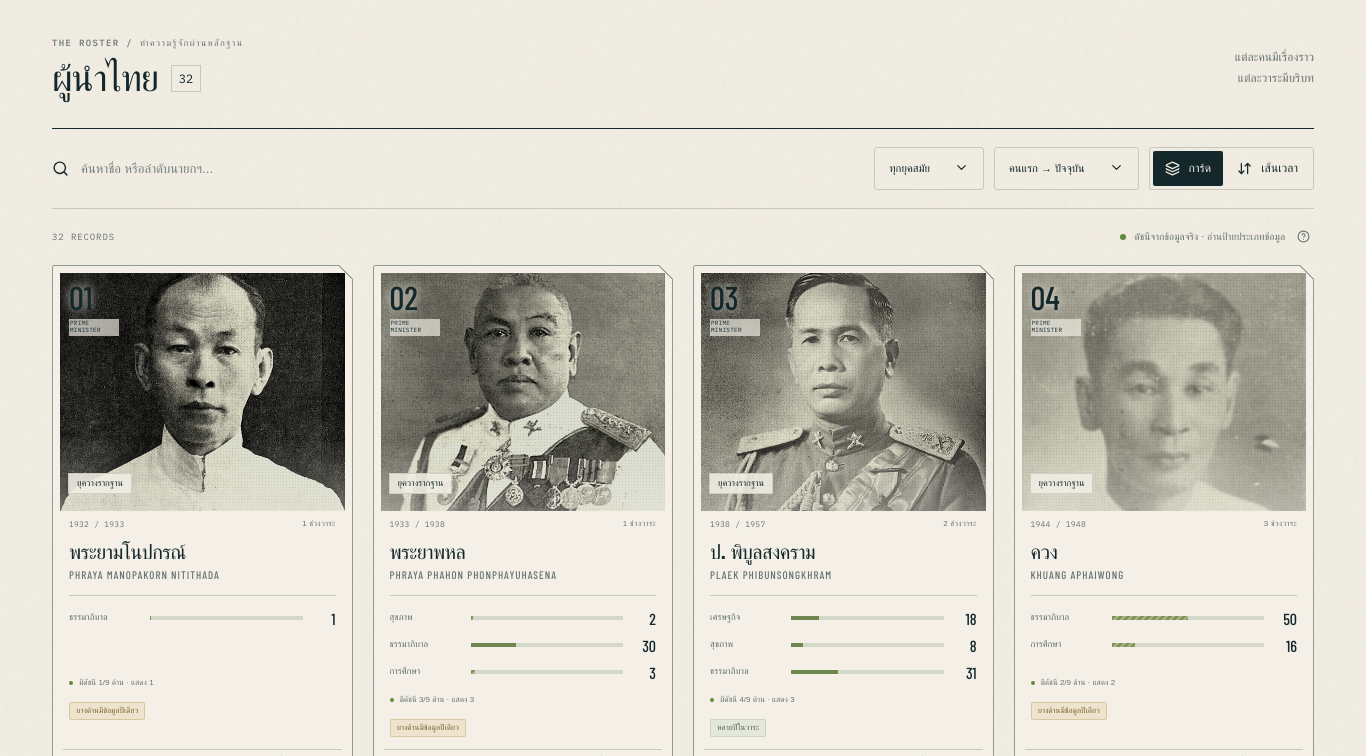
Test: roster to comparison flow › opens an early historical profile without fabricated data and returns keyboard focus on close
(page scrolled)
Click the button "01 PRIME MINISTER ยุควางรากฐาน": (202, 385) [53,266,352,504]
(page scrolled)
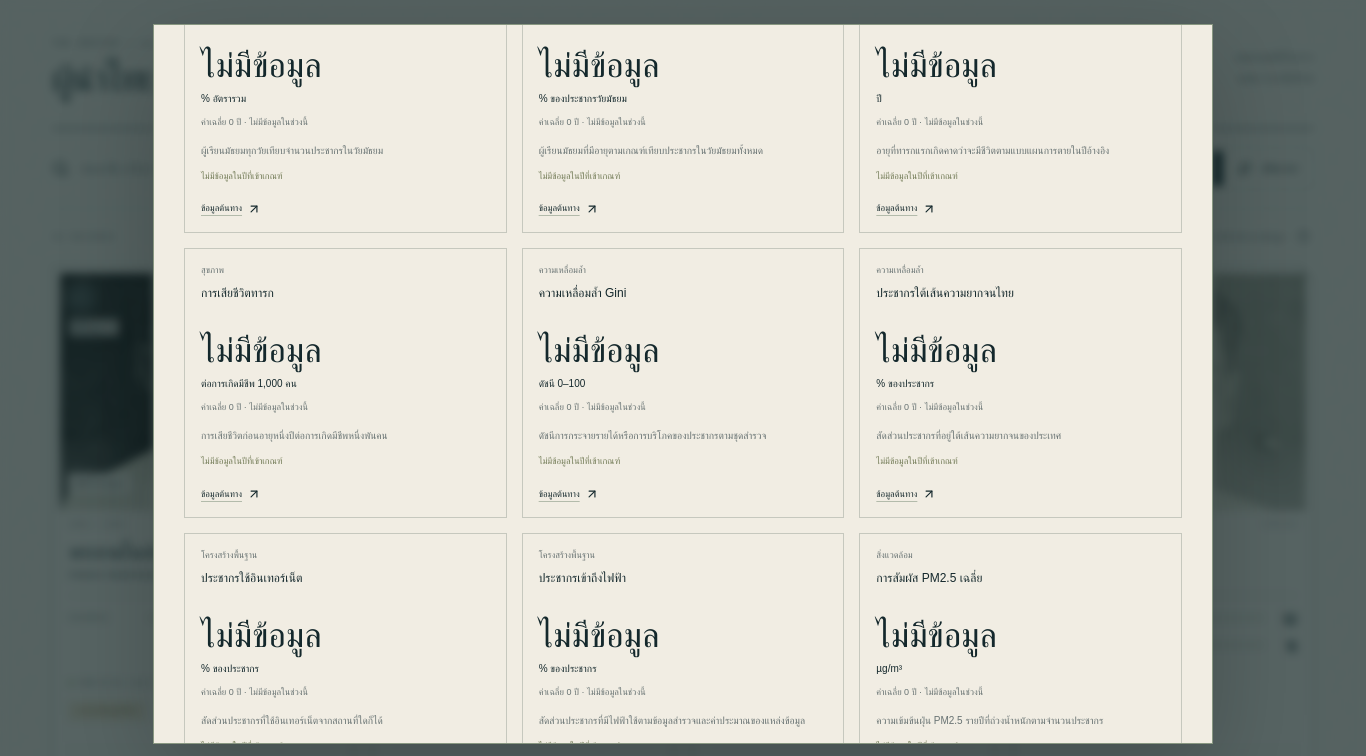
Check: the text "ต่อการเกิดมีชีพ 1,000 คน" is shown, box [201,378,297,389]
Press Escape
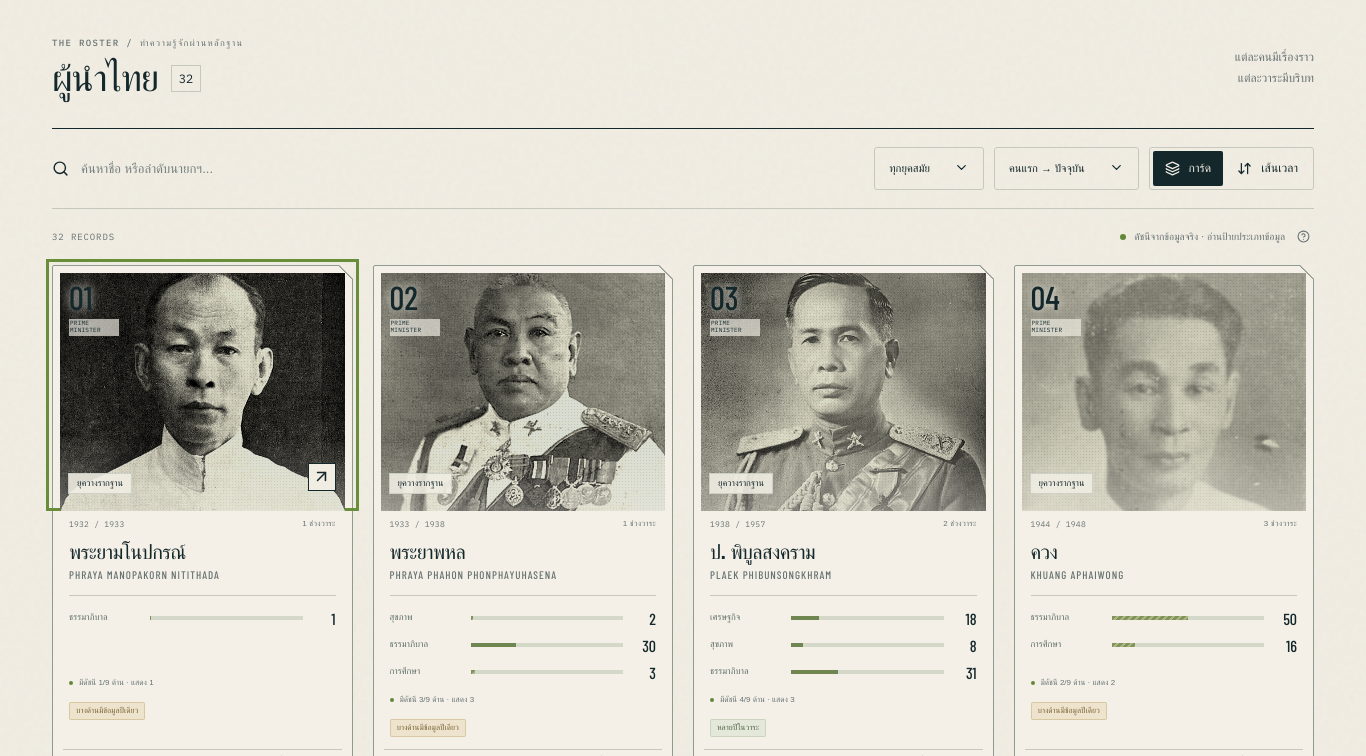
Check: the dialog is gone
